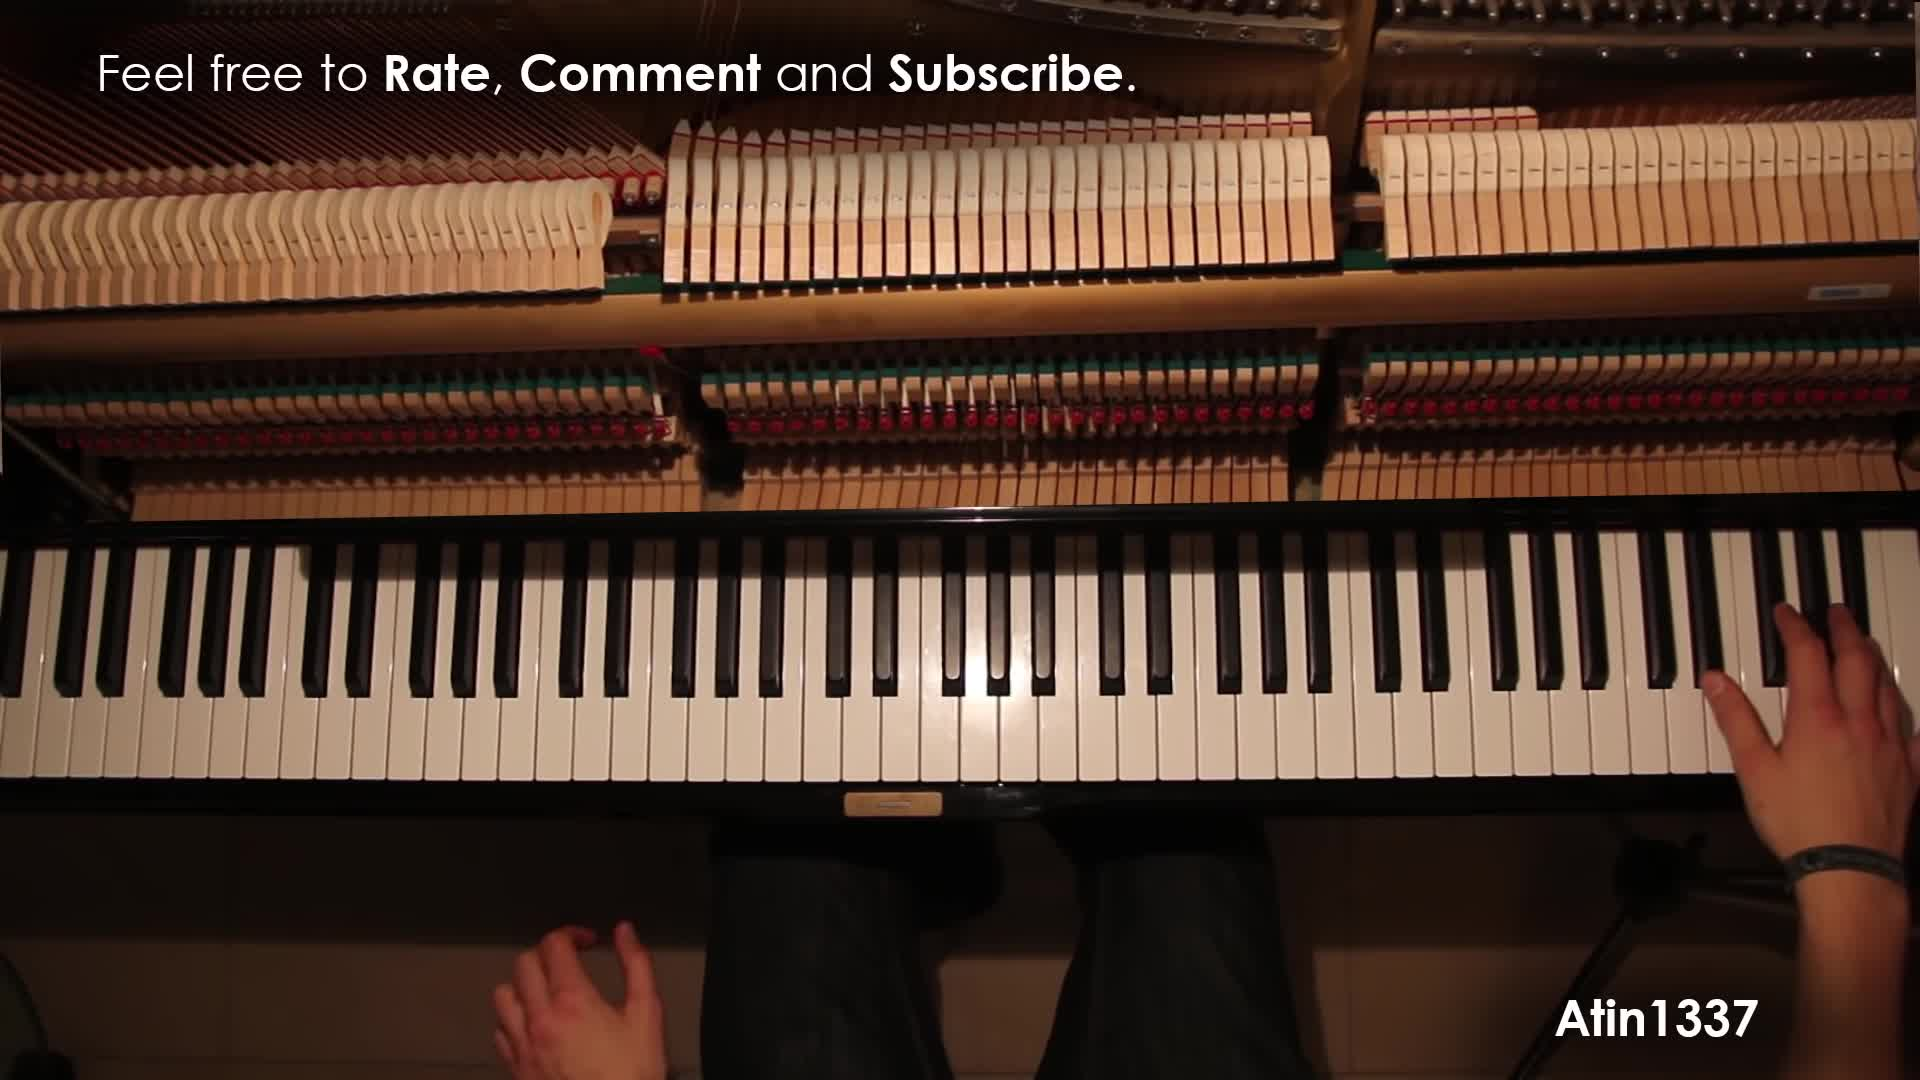left: (492, 913, 670, 1080)
right: (1702, 599, 1920, 869)
